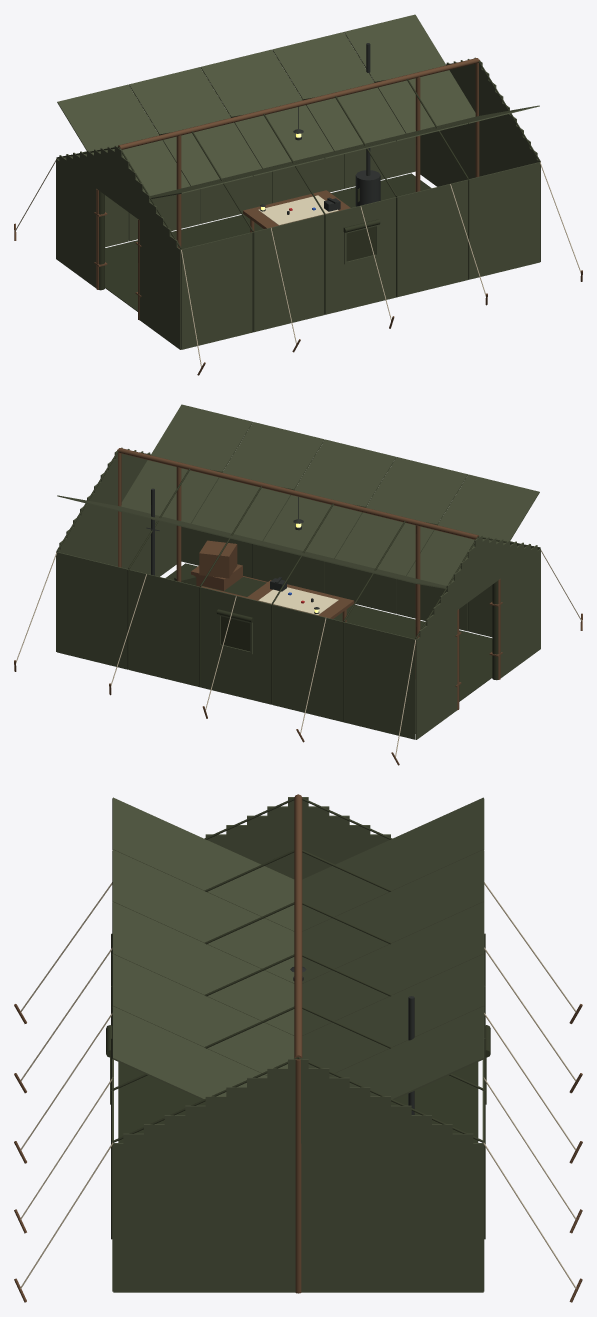
Rendered from command-tent.glb.
3 views of the same model, one above another, from view 1: azimuth 30°, elevation 25°; view 2: azimuth 150°, elevation 25°; view 3: azimuth 270°, elevation 25° (orthographic). The views are drawn at different scales.
Visible parts, largest first — view 1: Mesh_RoofR_1, Mesh_RoofR_2, Mesh_RoofR_3, Mesh_RoofR_0, Mesh_WallL_4, Mesh_WallL_0, Mesh_WallL_1, Mesh_WallL_3, Mesh_RoofR_4, Mesh_GroundSheet, Mesh_FrontWallL, Mesh_FrontWallR (+28 smaller); view 2: Mesh_RoofL_1, Mesh_RoofL_2, Mesh_RoofL_3, Mesh_RoofL_0, Mesh_WallR_4, Mesh_WallR_0, Mesh_WallR_1, Mesh_WallR_3, Mesh_RoofL_4, Mesh_FrontWallR, Mesh_FrontWallL, Mesh_GroundSheet (+28 smaller); view 3: Mesh_BackWallL, Mesh_BackWallR, Mesh_RoofR_2, Mesh_RoofL_4, Mesh_RoofR_4, Mesh_RoofL_2, Mesh_RoofR_3, Mesh_RoofL_3, Mesh_RoofL_1, Mesh_RoofR_1, Mesh_GroundSheet, Mesh_RoofR_0 (+15 smaller).
Boxes of the visible parts, left/top/right/bottom form: Mesh_RoofR_1: left=272, top=32, right=405, bottom=151; Mesh_RoofR_2: left=200, top=49, right=333, bottom=168; Mesh_RoofR_3: left=129, top=67, right=261, bottom=185; Mesh_RoofR_0: left=344, top=14, right=475, bottom=133; Mesh_WallL_4: left=181, top=232, right=252, bottom=349; Mesh_WallL_0: left=468, top=162, right=539, bottom=279; Mesh_WallL_1: left=397, top=179, right=467, bottom=297; Mesh_WallL_3: left=253, top=214, right=324, bottom=332; Mesh_RoofR_4: left=57, top=84, right=190, bottom=195; Mesh_GroundSheet: left=105, top=173, right=431, bottom=311; Mesh_FrontWallL: left=139, top=220, right=181, bottom=349; Mesh_FrontWallR: left=56, top=159, right=96, bottom=287; Mesh_RoofL_1: left=191, top=422, right=324, bottom=540; Mesh_RoofL_2: left=263, top=439, right=396, bottom=558; Mesh_RoofL_3: left=335, top=457, right=467, bottom=575; Mesh_RoofL_0: left=121, top=404, right=252, bottom=523; Mesh_WallR_4: left=344, top=622, right=415, bottom=739; Mesh_WallR_0: left=57, top=552, right=128, bottom=669; Mesh_WallR_1: left=129, top=569, right=199, bottom=687; Mesh_WallR_3: left=272, top=604, right=343, bottom=721; Mesh_RoofL_4: left=406, top=474, right=539, bottom=585; Mesh_FrontWallR: left=416, top=611, right=457, bottom=739; Mesh_FrontWallL: left=500, top=548, right=540, bottom=677; Mesh_GroundSheet: left=165, top=563, right=492, bottom=733; Mesh_BackWallL: left=113, top=1143, right=295, bottom=1292; Mesh_BackWallR: left=301, top=1143, right=483, bottom=1292; Mesh_RoofR_2: left=302, top=902, right=484, bottom=1035; Mesh_RoofL_4: left=112, top=797, right=294, bottom=931; Mesh_RoofR_4: left=302, top=797, right=484, bottom=931; Mesh_RoofL_2: left=112, top=902, right=294, bottom=1035; Mesh_RoofR_3: left=302, top=849, right=484, bottom=983; Mesh_RoofL_3: left=112, top=849, right=294, bottom=983; Mesh_RoofL_1: left=112, top=954, right=294, bottom=1075; Mesh_RoofR_1: left=302, top=954, right=484, bottom=1075; Mesh_GroundSheet: left=118, top=1062, right=478, bottom=1142; Mesh_RoofR_0: left=329, top=1006, right=484, bottom=1099.
Size of the model in its own units: 6.44 by 2.62 by 5.53.
